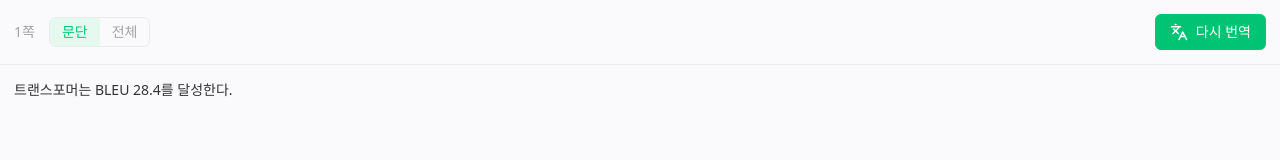
Test: translation panel › re-translating overrides the restored copy
Click the button "다시 번역" at (1210, 32), box [1155,14,1266,50]
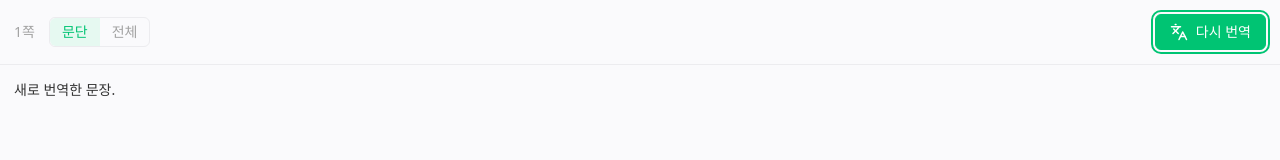
Result: the button "새로 번역한 문장." is shown at [14,80,115,99]
